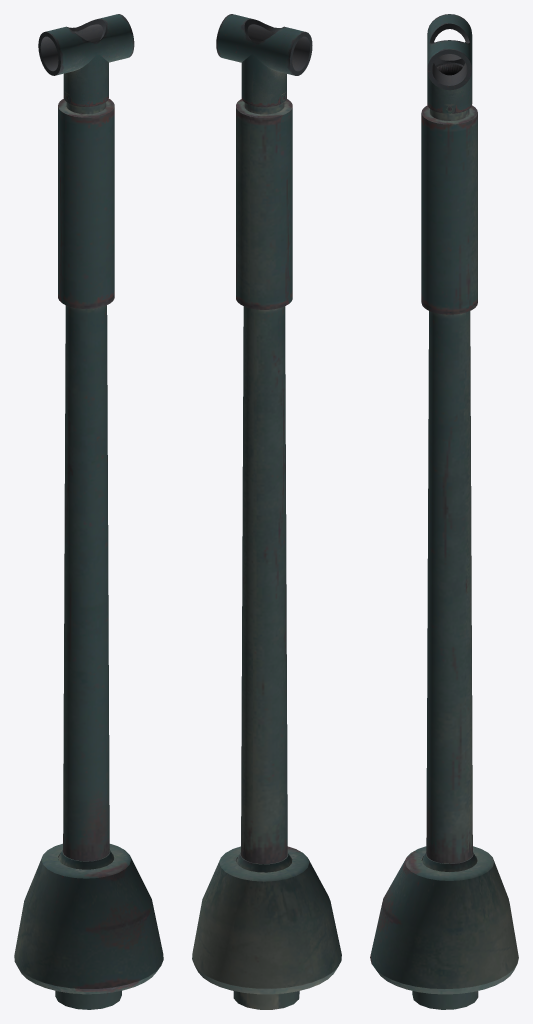
The model's file is Gun_02.glb.
3 views of the same model, side by side, from view 1: azimuth 30°, elevation 25°; view 2: azimuth 150°, elevation 25°; view 3: azimuth 270°, elevation 25° (orthographic).
Visible parts, largest first — view 1: set_0_group_0; view 2: set_0_group_0; view 3: set_0_group_0.
Boxes of the visible parts, x1=… form: set_0_group_0: x1=14, y1=14, x2=163, y2=1009; set_0_group_0: x1=192, y1=14, x2=341, y2=1009; set_0_group_0: x1=370, y1=14, x2=518, y2=1009.
Size of the model in its own units: 0.7684 by 5.49 by 0.7686.
Materials: 1 (1 with a texture image).
